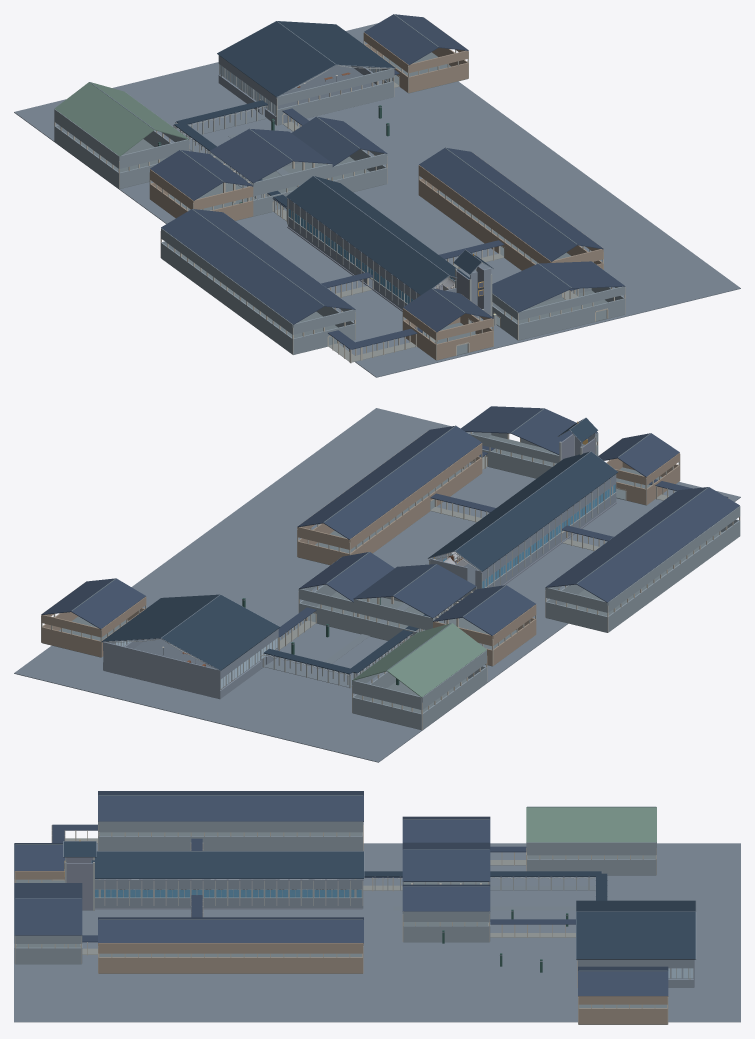
File: lahudi-academy.glb
3 views of the same model, one above another, from view 1: azimuth 30°, elevation 25°; view 2: azimuth 150°, elevation 25°; view 3: azimuth 270°, elevation 25° (orthographic).
Parts seen in each view (by area): view 1: RG-GAME-02-EXTERIOR-REBUILD-V5__winter_campus_snowbase, RG-GAME-02-EXTERIOR-REBUILD-V5__academic_high_gable_slate_ro (×2), RG-GAME-02-EXTERIOR-REBUILD-V5__library_high_gable_slate_roo (×2), RG-GAME-02-PLAN-LOCK-V9__B_WEST_side_0, RG-GAME-02-PLAN-LOCK-V9__C_EAST_side_0, RG-GAME-02-PLAN-LOCK-V9__G_ASSEMBLY_side_0, RG-GAME-02-PLAN-LOCK-V9__B_WEST_side_1, RG-GAME-02-PLAN-LOCK-V9__B_WEST_west_wall_band_-68.00_24.00 (×2), RG-GAME-02-PLAN-LOCK-V9__C_EAST_west_wall_band_-68.00_24.00 (×2), RG-GAME-02-PLAN-LOCK-V9__E_CENTER_HALL_side_0, RG-GAME-02-PLAN-LOCK-V9__D_EAST_ENTRY_side_0, RG-GAME-02-PLAN-LOCK-V9__C_EAST_side_1 (+26 smaller); view 2: RG-GAME-02-EXTERIOR-REBUILD-V5__winter_campus_snowbase, RG-GAME-02-EXTERIOR-REBUILD-V5__academic_high_gable_slate_ro (×2), RG-GAME-02-EXTERIOR-REBUILD-V5__library_high_gable_slate_roo (×2), RG-GAME-02-PLAN-LOCK-V9__B_WEST_side_0, RG-GAME-02-PLAN-LOCK-V9__C_EAST_side_0, RG-GAME-02-EXTERIOR-REBUILD-V5__library_endwall_north, RG-GAME-02-PLAN-LOCK-V9__G_ASSEMBLY_side_0, RG-GAME-02-PLAN-LOCK-V9__B_WEST_side_1, RG-GAME-02-PLAN-LOCK-V9__B_WEST_west_wall_band_-68.00_24.00 (×2), RG-GAME-02-PLAN-LOCK-V9__C_EAST_west_wall_band_-68.00_24.00 (×2), RG-GAME-02-PLAN-LOCK-V9__E_CENTER_HALL_side_0, RG-GAME-02-PLAN-LOCK-V9__C_EAST_side_1 (+30 smaller); view 3: RG-GAME-02-EXTERIOR-REBUILD-V5__winter_campus_snowbase, RG-GAME-02-EXTERIOR-REBUILD-V5__academic_high_gable_slate_ro, RG-GAME-02-EXTERIOR-REBUILD-V5__library_high_gable_slate_roo (×2), RG-GAME-02-PLAN-LOCK-V9__B_WEST_side_1, RG-GAME-02-PLAN-LOCK-V9__C_EAST_side_1, RG-GAME-02-PLAN-LOCK-V9__C_EAST_east_wall_band_-68.00_24.00 (×2), RG-GAME-02-PLAN-LOCK-V9__B_WEST_east_wall_band_-68.00_24.00 (×2), RG-GAME-02-PLAN-LOCK-V9__G_ASSEMBLY_side_1, RG-GAME-02-PLAN-LOCK-V9__E_CENTER_HALL_side_1, RG-GAME-02-PLAN-LOCK-V9__G_ASSEMBLY_east_wall_band_-170.00_- (×2), RG-GAME-02-PLAN-LOCK-V9__C_EAST_east_low_wall_-68.00_24.00, RG-GAME-02-PLAN-LOCK-V9__D_EAST_ENTRY_side_1 (+31 smaller).
Part boxes in pixels (<box>): RG-GAME-02-EXTERIOR-REBUILD-V5__winter_campus_snowbase: <box>14,23,740,377</box>; RG-GAME-02-EXTERIOR-REBUILD-V5__academic_high_gable_slate_ro (×2): <box>286,176,469,295</box>; RG-GAME-02-EXTERIOR-REBUILD-V5__library_high_gable_slate_roo (×2): <box>217,21,395,97</box>; RG-GAME-02-PLAN-LOCK-V9__B_WEST_side_0: <box>161,209,324,324</box>; RG-GAME-02-PLAN-LOCK-V9__C_EAST_side_0: <box>419,148,577,261</box>; RG-GAME-02-PLAN-LOCK-V9__G_ASSEMBLY_side_0: <box>54,82,154,156</box>; RG-GAME-02-PLAN-LOCK-V9__B_WEST_side_1: <box>193,209,355,309</box>; RG-GAME-02-PLAN-LOCK-V9__B_WEST_west_wall_band_-68.00_24.00 (×2): <box>161,228,292,344</box>; RG-GAME-02-PLAN-LOCK-V9__C_EAST_west_wall_band_-68.00_24.00 (×2): <box>418,165,550,266</box>; RG-GAME-02-PLAN-LOCK-V9__E_CENTER_HALL_side_0: <box>210,129,292,183</box>; RG-GAME-02-PLAN-LOCK-V9__D_EAST_ENTRY_side_0: <box>492,264,571,312</box>; RG-GAME-02-PLAN-LOCK-V9__C_EAST_side_1: <box>445,147,603,249</box>; RG-GAME-02-EXTERIOR-REBUILD-V5__winter_campus_snowbase: <box>14,408,740,762</box>; RG-GAME-02-EXTERIOR-REBUILD-V5__academic_high_gable_slate_ro (×2): <box>428,451,617,571</box>; RG-GAME-02-EXTERIOR-REBUILD-V5__library_high_gable_slate_roo (×2): <box>102,594,279,670</box>; RG-GAME-02-PLAN-LOCK-V9__B_WEST_side_0: <box>576,487,739,602</box>; RG-GAME-02-PLAN-LOCK-V9__C_EAST_side_0: <box>323,426,481,539</box>; RG-GAME-02-EXTERIOR-REBUILD-V5__library_endwall_north: <box>103,642,220,698</box>; RG-GAME-02-PLAN-LOCK-V9__G_ASSEMBLY_side_0: <box>387,623,486,697</box>; RG-GAME-02-PLAN-LOCK-V9__B_WEST_side_1: <box>545,487,707,587</box>; RG-GAME-02-PLAN-LOCK-V9__B_WEST_west_wall_band_-68.00_24.00 (×2): <box>608,506,740,623</box>; RG-GAME-02-PLAN-LOCK-V9__C_EAST_west_wall_band_-68.00_24.00 (×2): <box>350,443,482,554</box>; RG-GAME-02-PLAN-LOCK-V9__E_CENTER_HALL_side_0: <box>393,564,476,618</box>; RG-GAME-02-PLAN-LOCK-V9__C_EAST_side_1: <box>297,425,455,527</box>; RG-GAME-02-EXTERIOR-REBUILD-V5__winter_campus_snowbase: <box>14,843,740,1022</box>; RG-GAME-02-EXTERIOR-REBUILD-V5__academic_high_gable_slate_ro: <box>91,851,363,878</box>; RG-GAME-02-EXTERIOR-REBUILD-V5__library_high_gable_slate_roo (×2): <box>576,900,695,959</box>; RG-GAME-02-PLAN-LOCK-V9__B_WEST_side_1: <box>98,795,363,821</box>; RG-GAME-02-PLAN-LOCK-V9__C_EAST_side_1: <box>98,919,363,942</box>; RG-GAME-02-PLAN-LOCK-V9__C_EAST_east_wall_band_-68.00_24.00 (×2): <box>98,943,362,964</box>; RG-GAME-02-PLAN-LOCK-V9__B_WEST_east_wall_band_-68.00_24.00 (×2): <box>98,821,362,842</box>; RG-GAME-02-PLAN-LOCK-V9__G_ASSEMBLY_side_1: <box>526,807,656,842</box>; RG-GAME-02-PLAN-LOCK-V9__E_CENTER_HALL_side_1: <box>402,849,490,881</box>; RG-GAME-02-PLAN-LOCK-V9__G_ASSEMBLY_east_wall_band_-170.00_- (×2): <box>527,842,656,865</box>; RG-GAME-02-PLAN-LOCK-V9__C_EAST_east_low_wall_-68.00_24.00: <box>98,964,362,973</box>; RG-GAME-02-PLAN-LOCK-V9__D_EAST_ENTRY_side_1: <box>14,898,82,935</box>.
Bounding box in the file's own units: 167 × 26.24 × 253.
